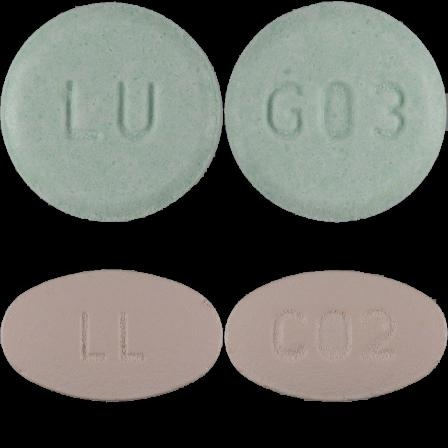68180-469: (0, 0, 224, 224)
